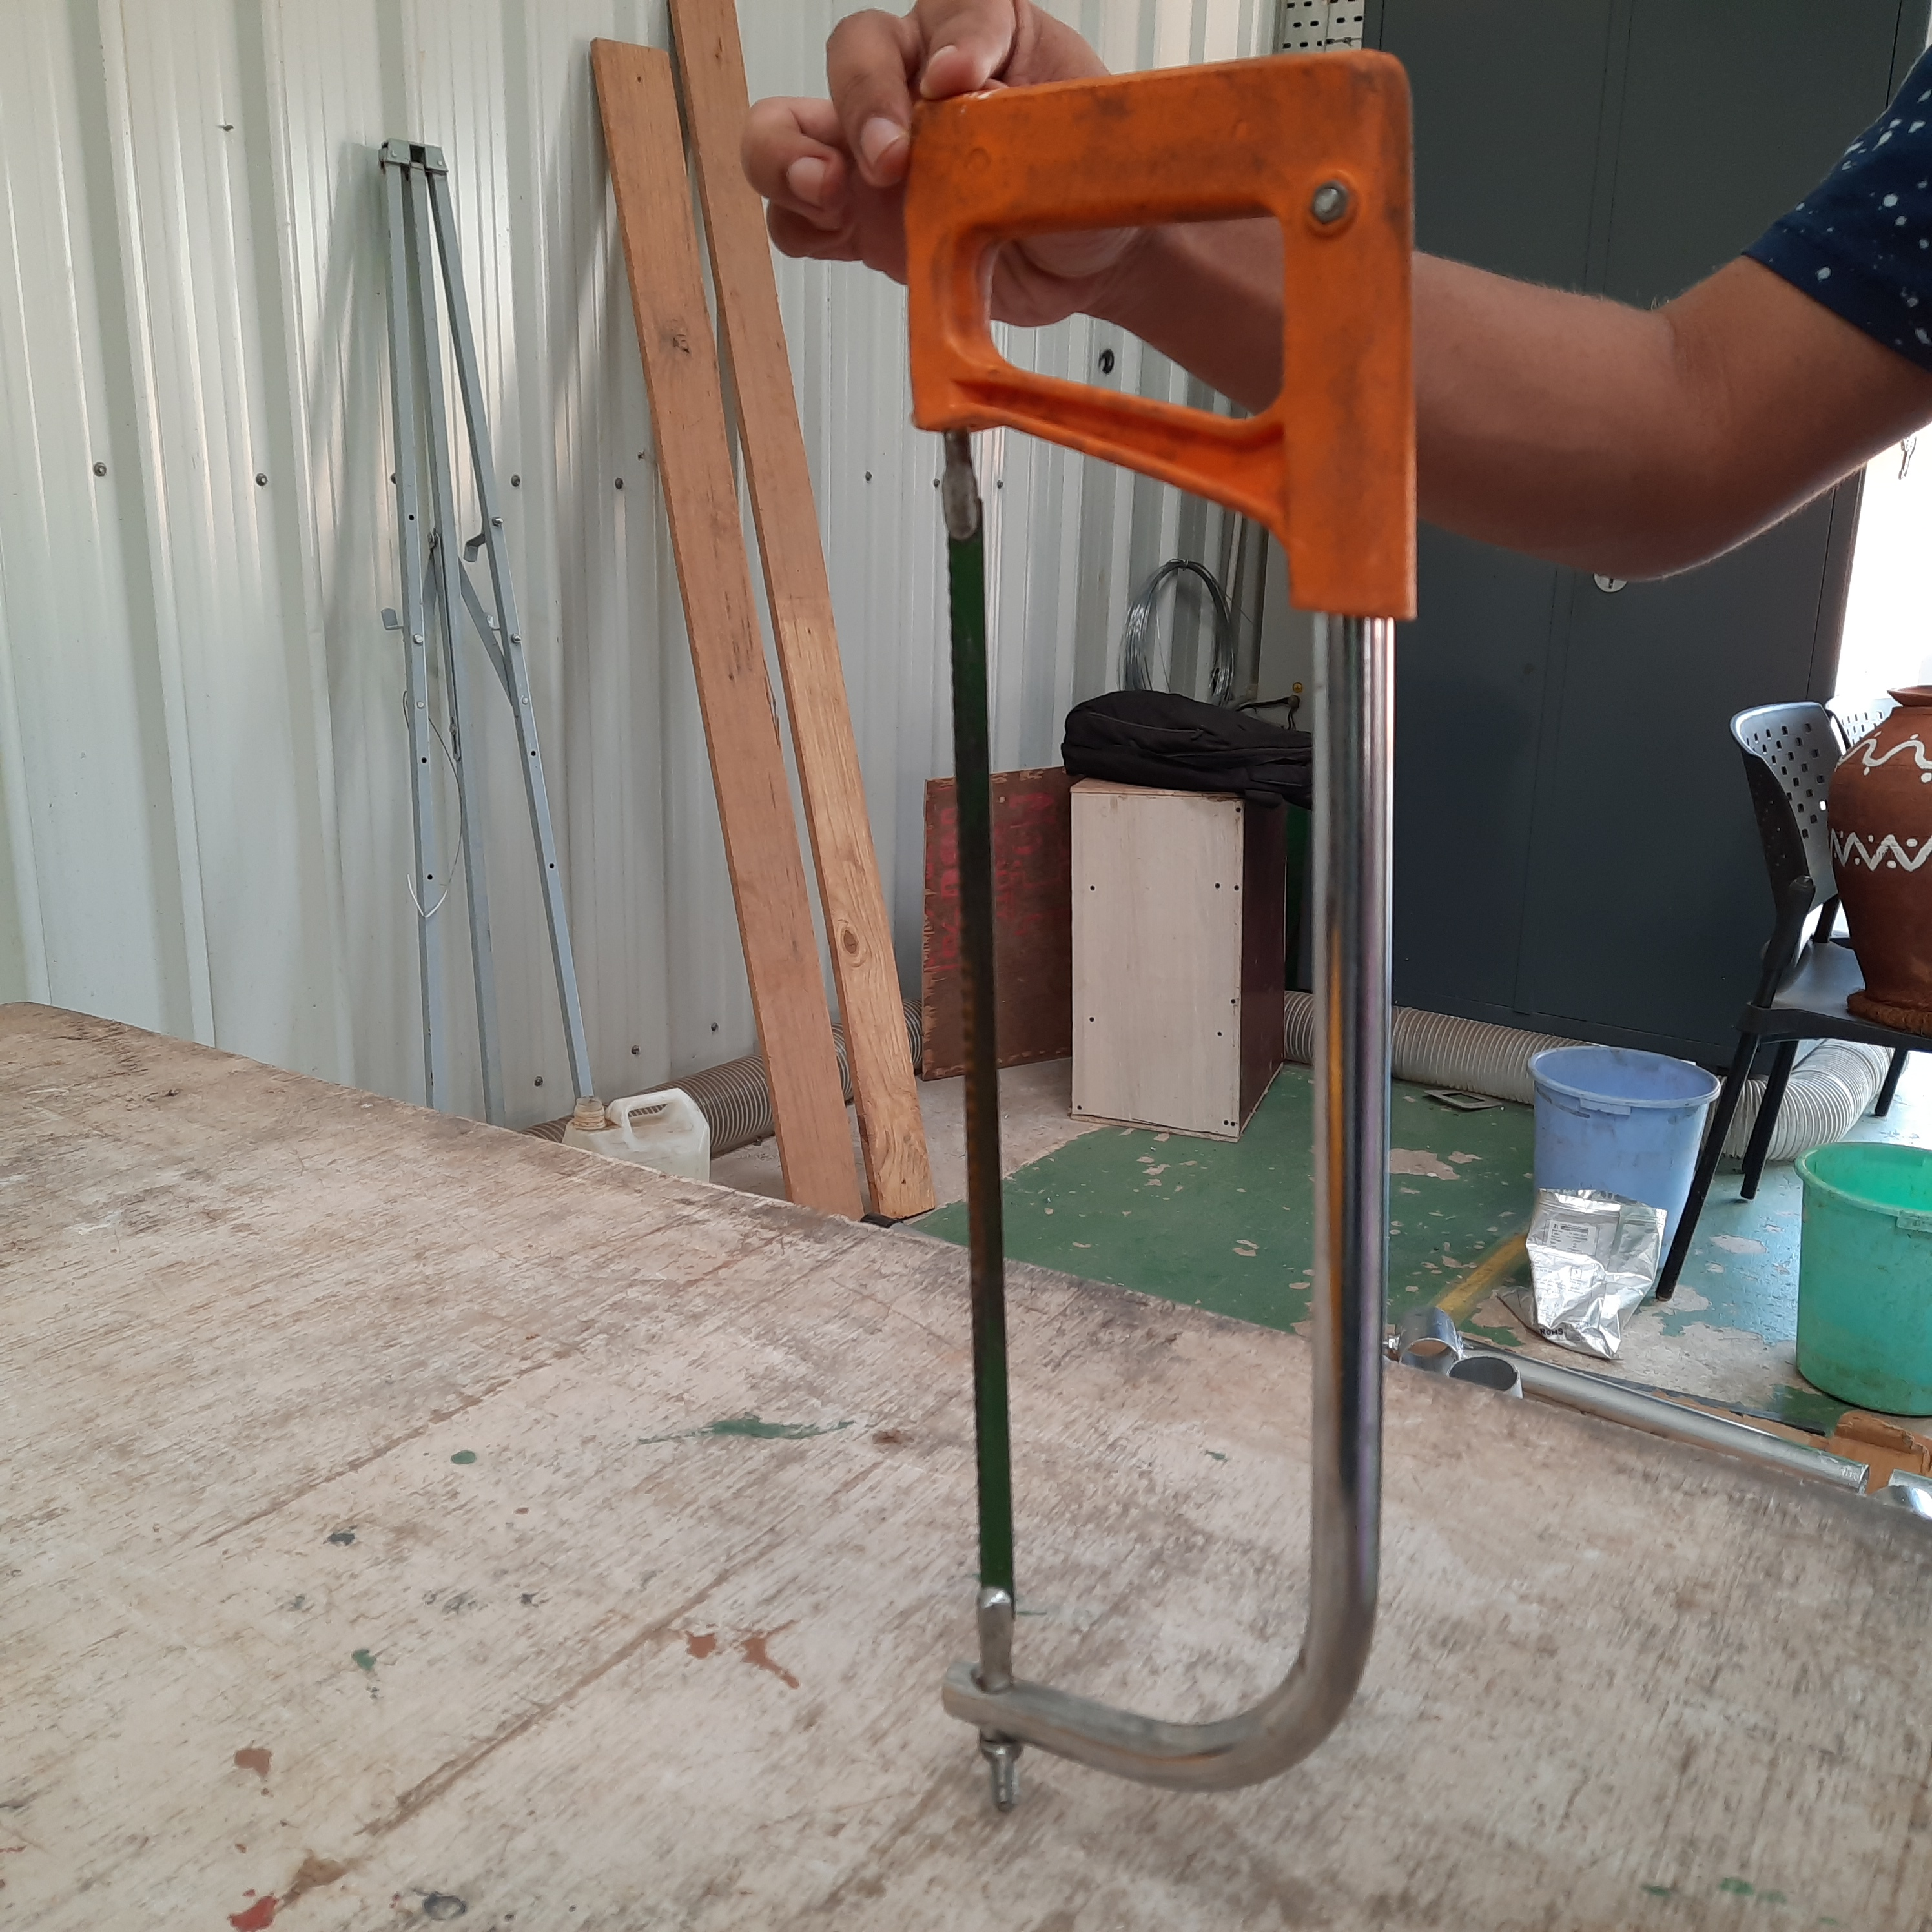Hexaframe: (885, 60, 1414, 1812)
